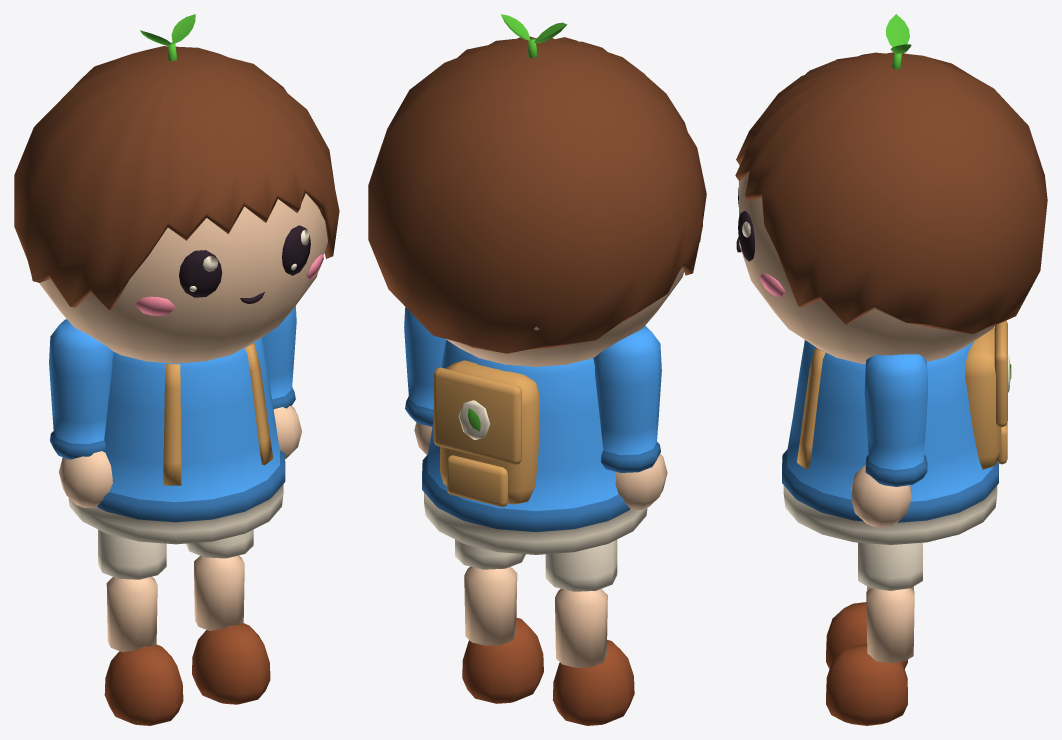
Rendered from hero-teen.glb.
3 renders of one model, left to right at view 1: azimuth 30°, elevation 25°; view 2: azimuth 150°, elevation 25°; view 3: azimuth 270°, elevation 25°, orthographic. The views are drawn at different scales.
Parts seen in each view (by area): view 1: head, body, leg-left, leg-right, arm-left, arm-right, head-leaf; view 2: head, body, leg-left, arm-left, leg-right, arm-right, head-leaf; view 3: head, body, leg-right, arm-right, leg-left, head-leaf.
Boxes of the visible parts, x1,y1,x2,y2 form: head: (14,46,339,363); body: (68,337,285,544); leg-left: (98,529,183,725); leg-right: (186,529,270,704); arm-left: (49,319,113,508); arm-right: (262,306,301,459); head-leaf: (140,14,195,61); head: (368,36,706,366); body: (422,339,647,554); leg-left: (545,539,634,725); arm-left: (593,325,667,510); leg-right: (455,539,543,703); arm-right: (404,307,445,454); head-leaf: (501,14,567,58); head: (735,52,1047,364); body: (782,320,1011,544); leg-right: (826,542,922,725); arm-right: (851,354,927,527); leg-left: (826,586,913,668); head-leaf: (886,14,911,69).
Size of the model in its own units: 1.11 by 2.51 by 1.07.
